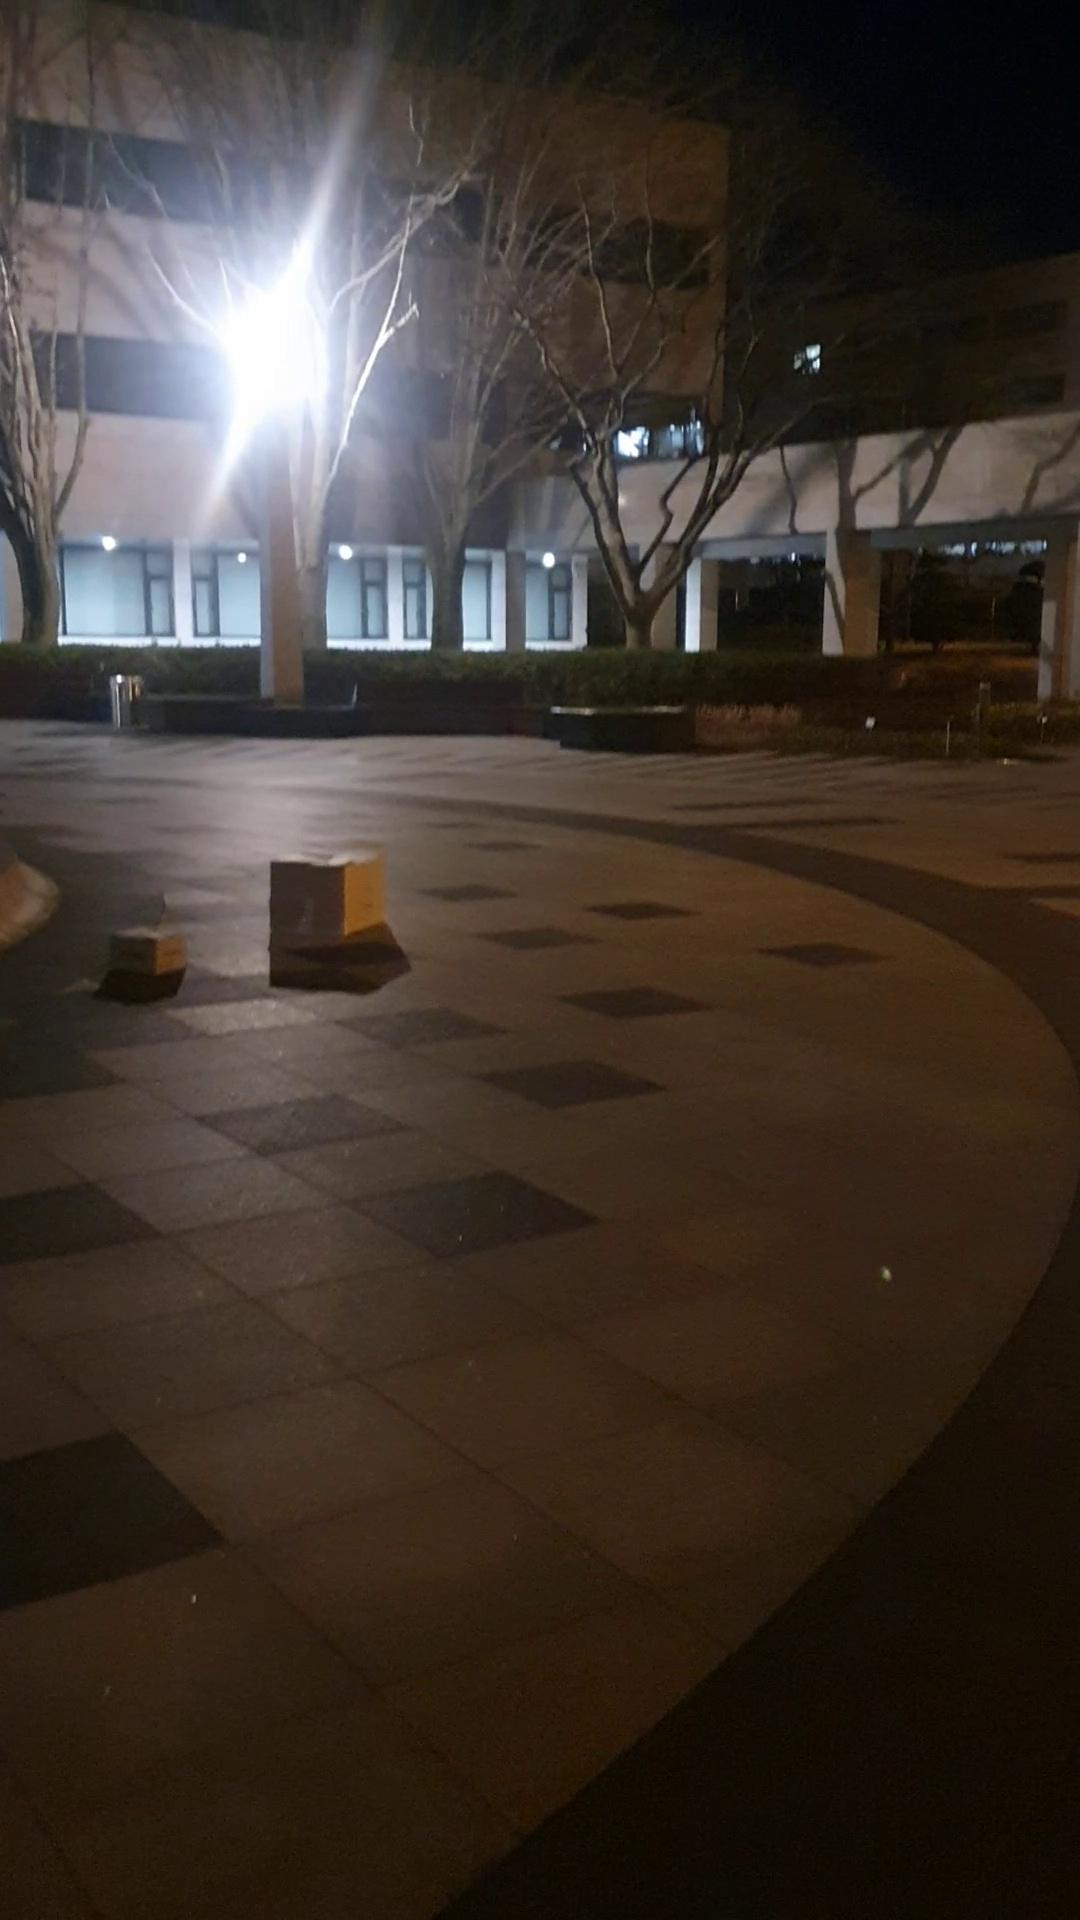Box: (266, 837, 393, 949), (111, 905, 198, 990)
